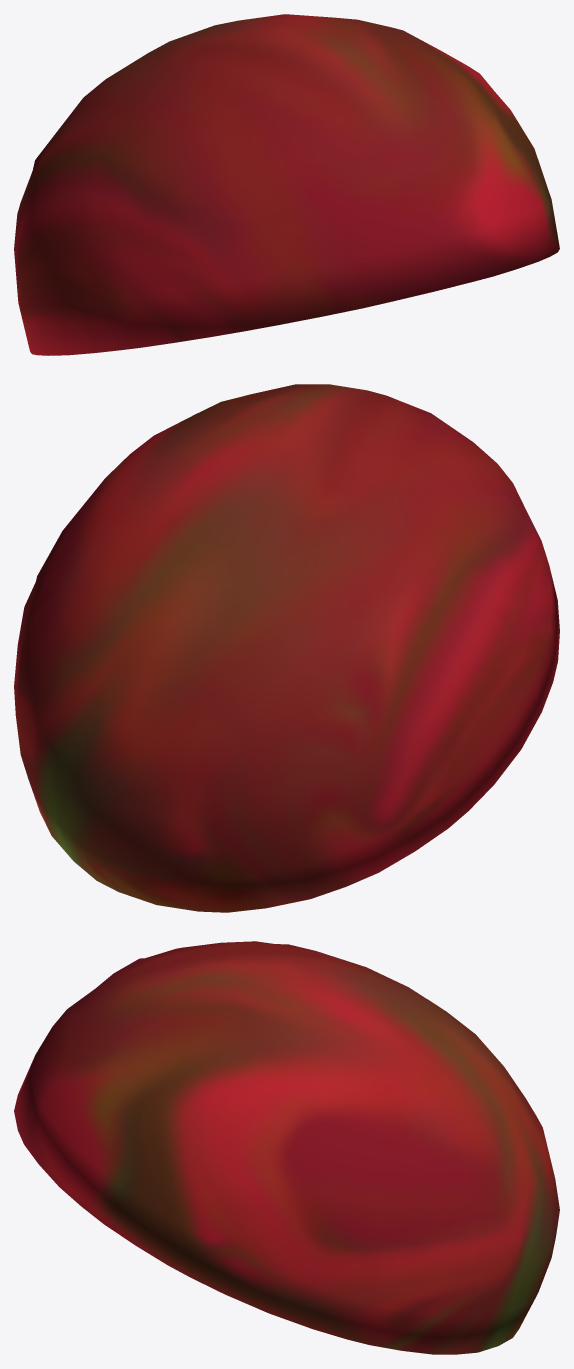
Rendered from Helmet_Airforce.fbx.
3 renders of one model, top to bottom at view 1: azimuth 30°, elevation 25°; view 2: azimuth 150°, elevation 25°; view 3: azimuth 270°, elevation 25°, orthographic. The views are drawn at different scales.
Parts seen in each view (by area): view 1: Helm.002; view 2: Helm.002; view 3: Helm.002.
Boxes of the visible parts, x1,y1,x2,y2 form: Helm.002: (14,14,559,355); Helm.002: (14,384,559,912); Helm.002: (14,941,559,1354).
Size of the model in its own units: 45.6 by 36.02 by 51.46.
